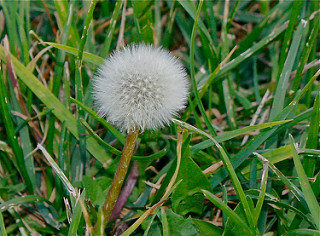dandelion white: (90, 42, 190, 131)
